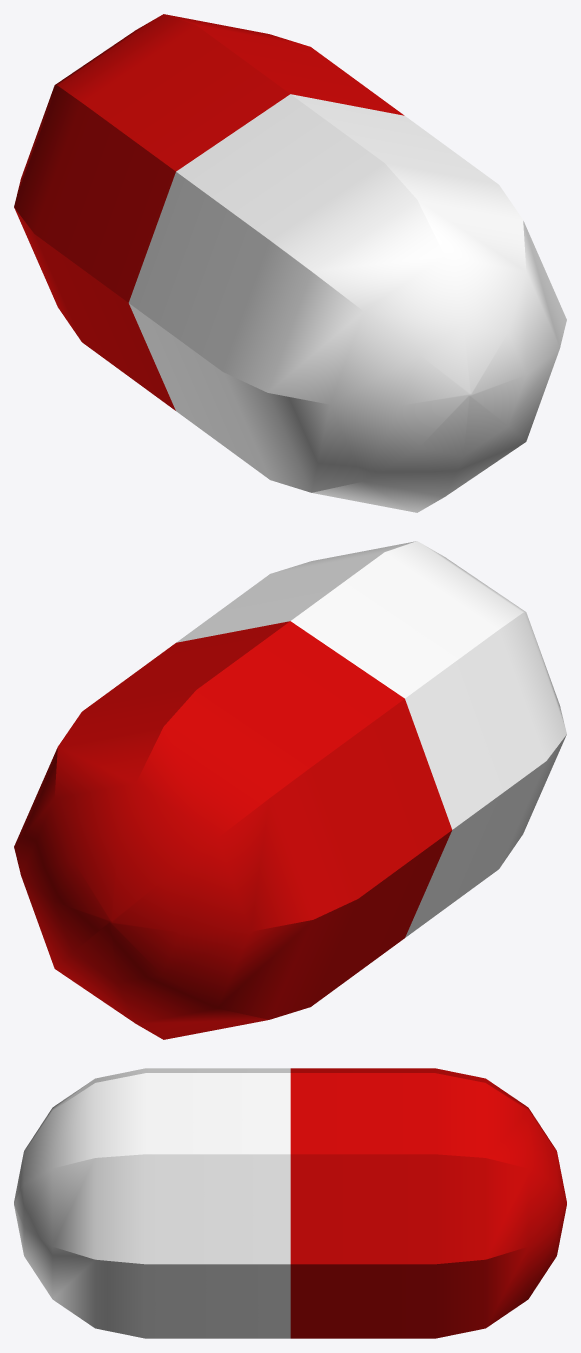
The model's file is Pill1.fbx.
3 views of the same model, one above another, from view 1: azimuth 30°, elevation 25°; view 2: azimuth 150°, elevation 25°; view 3: azimuth 270°, elevation 25° (orthographic). The views are drawn at different scales.
Parts seen in each view (by area): view 1: Pill1; view 2: Pill1; view 3: Pill1.
Boxes of the visible parts, left/top/right/bottom form: Pill1: left=14, top=14, right=566, bottom=512; Pill1: left=14, top=541, right=566, bottom=1039; Pill1: left=14, top=1068, right=566, bottom=1338.
Bounding box in the file's own units: 14.8 × 14.8 × 28.45.
Materials: 1 (1 with a texture image).
